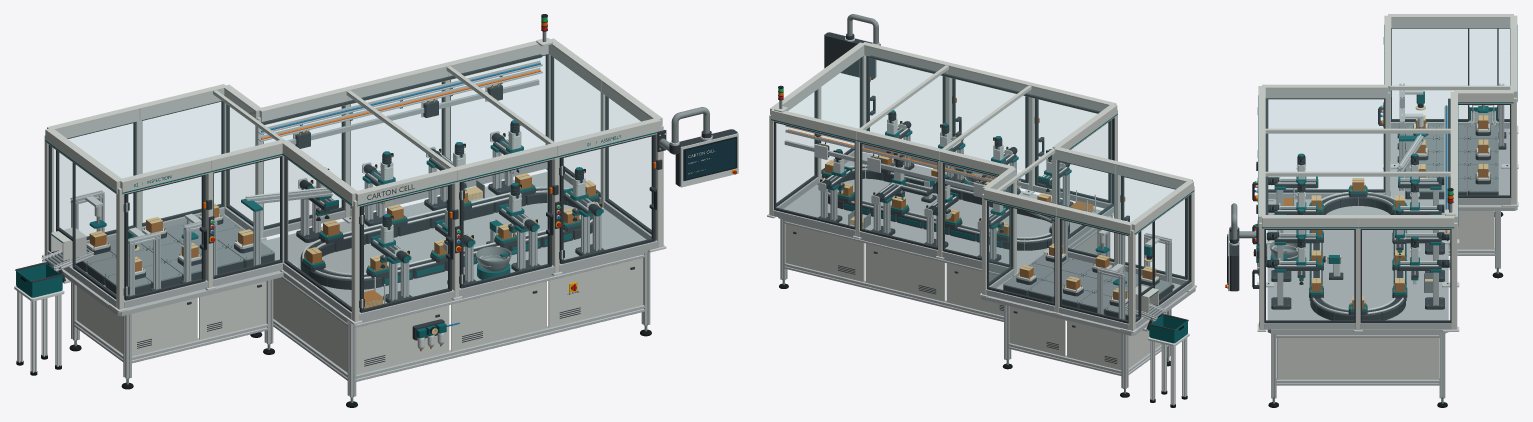
File: continuous-line.glb
The picture shows the model from 3 angles, left to right: view 1: azimuth 30°, elevation 25°; view 2: azimuth 150°, elevation 25°; view 3: azimuth 270°, elevation 25°; orthographic projection. The views are drawn at different scales.
Parts seen in each view (by area): view 1: MainFrame, PlanarFrame, GuardUtilities, XtsStator, PlanarTiles, GuardFeedDoor, GuardLoadDoor, GuardVisionDoor, GuardInsertDoor, GuardPlanarEnd, GuardRoof, PackOutTote (+26 smaller); view 2: MainFrame, PlanarFrame, PlanarTiles, GuardPlanarEnd, XtsStator, GuardRearLoad, GuardRearInsert, GuardUtilities, GuardVisionRear, GuardPackRear, GuardRoof, PackOutTote (+21 smaller); view 3: MainFrame, PlanarFrame, PlanarTiles, GuardRoof, GuardRightFront, GuardRightRear, GuardLoopEnd, XtsStator, GuardPlanarEnd, GuardReturn, GuardRearLoad, GuardPackRear (+29 smaller).
Boxes of the visible parts, box(x1,y1,x2,y2) form: MainFrame: box(250, 171, 651, 407); PlanarFrame: box(47, 219, 283, 389); GuardUtilities: box(258, 60, 542, 148); XtsStator: box(300, 186, 599, 289); PlanarTiles: box(75, 214, 274, 294); GuardFeedDoor: box(345, 167, 458, 324); GuardLoadDoor: box(551, 117, 662, 275); GuardVisionDoor: box(109, 158, 212, 312); GuardInsertDoor: box(451, 143, 558, 300); GuardPlanarEnd: box(42, 128, 123, 307); GuardRoof: box(213, 54, 554, 168); PackOutTote: box(14, 262, 64, 375); MainFrame: box(778, 152, 1112, 321); PlanarFrame: box(981, 258, 1195, 397); PlanarTiles: box(1003, 252, 1172, 320); GuardPlanarEnd: box(1120, 180, 1194, 333); XtsStator: box(822, 165, 1069, 250); GuardRearLoad: box(767, 109, 859, 235); GuardRearInsert: box(853, 129, 942, 255); GuardUtilities: box(784, 125, 1021, 197); GuardVisionRear: box(1052, 205, 1133, 329); GuardPackRear: box(980, 188, 1059, 311); GuardRoof: box(859, 55, 1100, 190); PackOutTote: box(1148, 314, 1189, 407); MainFrame: box(1267, 198, 1448, 407); PlanarFrame: box(1383, 128, 1517, 278); PlanarTiles: box(1405, 125, 1498, 199); GuardRoof: box(1265, 85, 1510, 214); GuardRightFront: box(1257, 215, 1358, 331); GuardRightRear: box(1353, 215, 1454, 331); GuardLoopEnd: box(1262, 84, 1392, 199); XtsStator: box(1309, 192, 1406, 320); GuardPlanarEnd: box(1388, 14, 1518, 133); GuardReturn: box(1454, 90, 1513, 206); GuardRearLoad: box(1442, 172, 1459, 331); GuardPackRear: box(1501, 53, 1518, 206).
Bounding box in the file's own units: 4.46 × 1.83 × 2.25.
